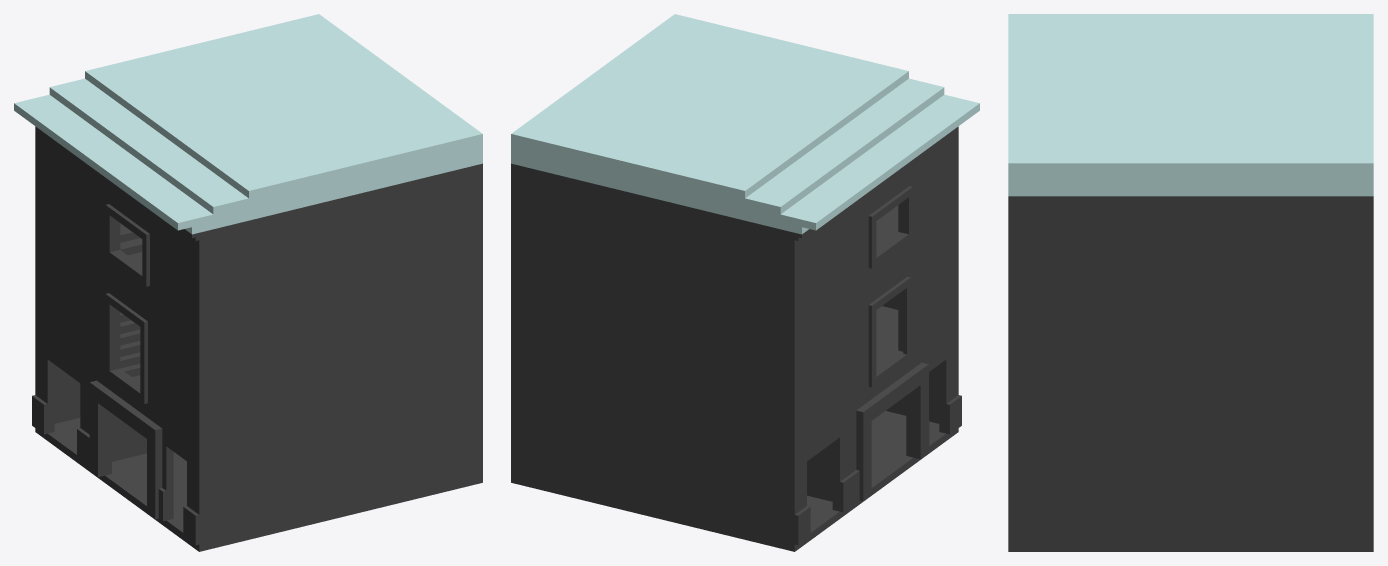
Rendered from Casa disciplina.obj.
3 renders of one model, left to right at view 1: azimuth 30°, elevation 25°; view 2: azimuth 150°, elevation 25°; view 3: azimuth 270°, elevation 25°, orthographic. The views are drawn at different scales.
Size of the model in its own units: 8.6 by 9.4 by 8.
